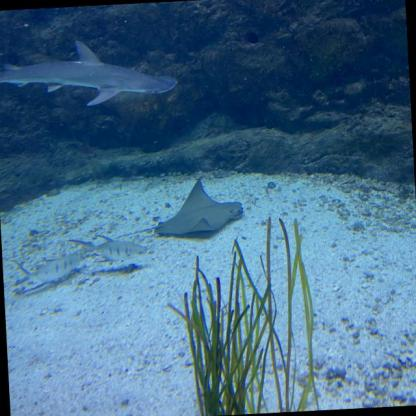fish: (14, 247, 84, 293), (84, 234, 148, 271)
shark: (0, 36, 175, 112)
stingray: (149, 176, 247, 246)
